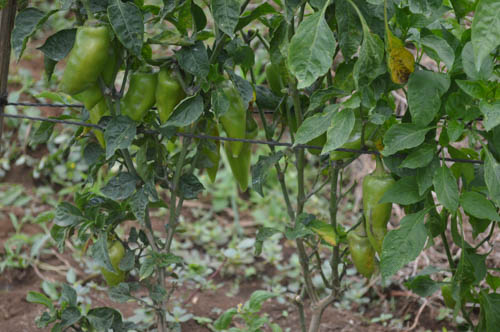ChiliPepper: (63, 26, 107, 90), (363, 175, 398, 253), (225, 127, 256, 189), (217, 86, 243, 151), (124, 71, 152, 123), (196, 118, 219, 179), (156, 70, 180, 123), (348, 234, 373, 276), (100, 247, 128, 284)
